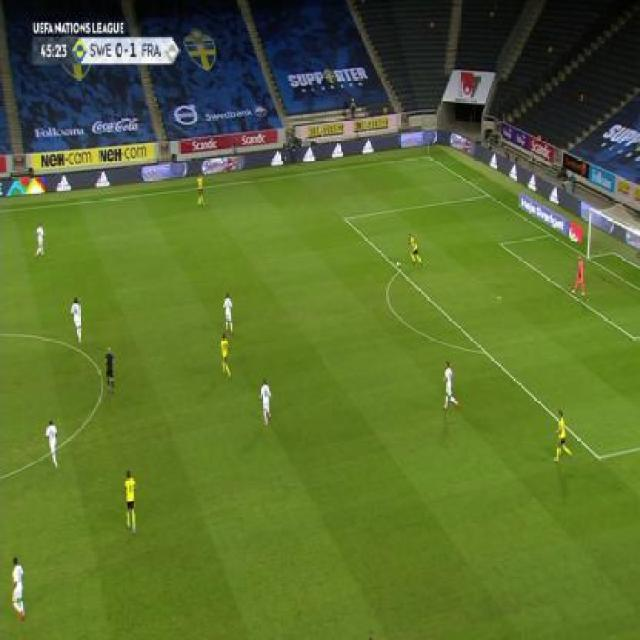ball: (395, 260, 400, 268)
player: (8, 555, 28, 620), (122, 470, 141, 538), (552, 409, 574, 463), (441, 358, 461, 417), (44, 418, 60, 471), (69, 297, 85, 346), (259, 375, 273, 428), (571, 253, 587, 299), (104, 345, 117, 396), (218, 333, 232, 378), (406, 232, 423, 268), (222, 293, 236, 336), (34, 221, 47, 260), (197, 171, 206, 207)
